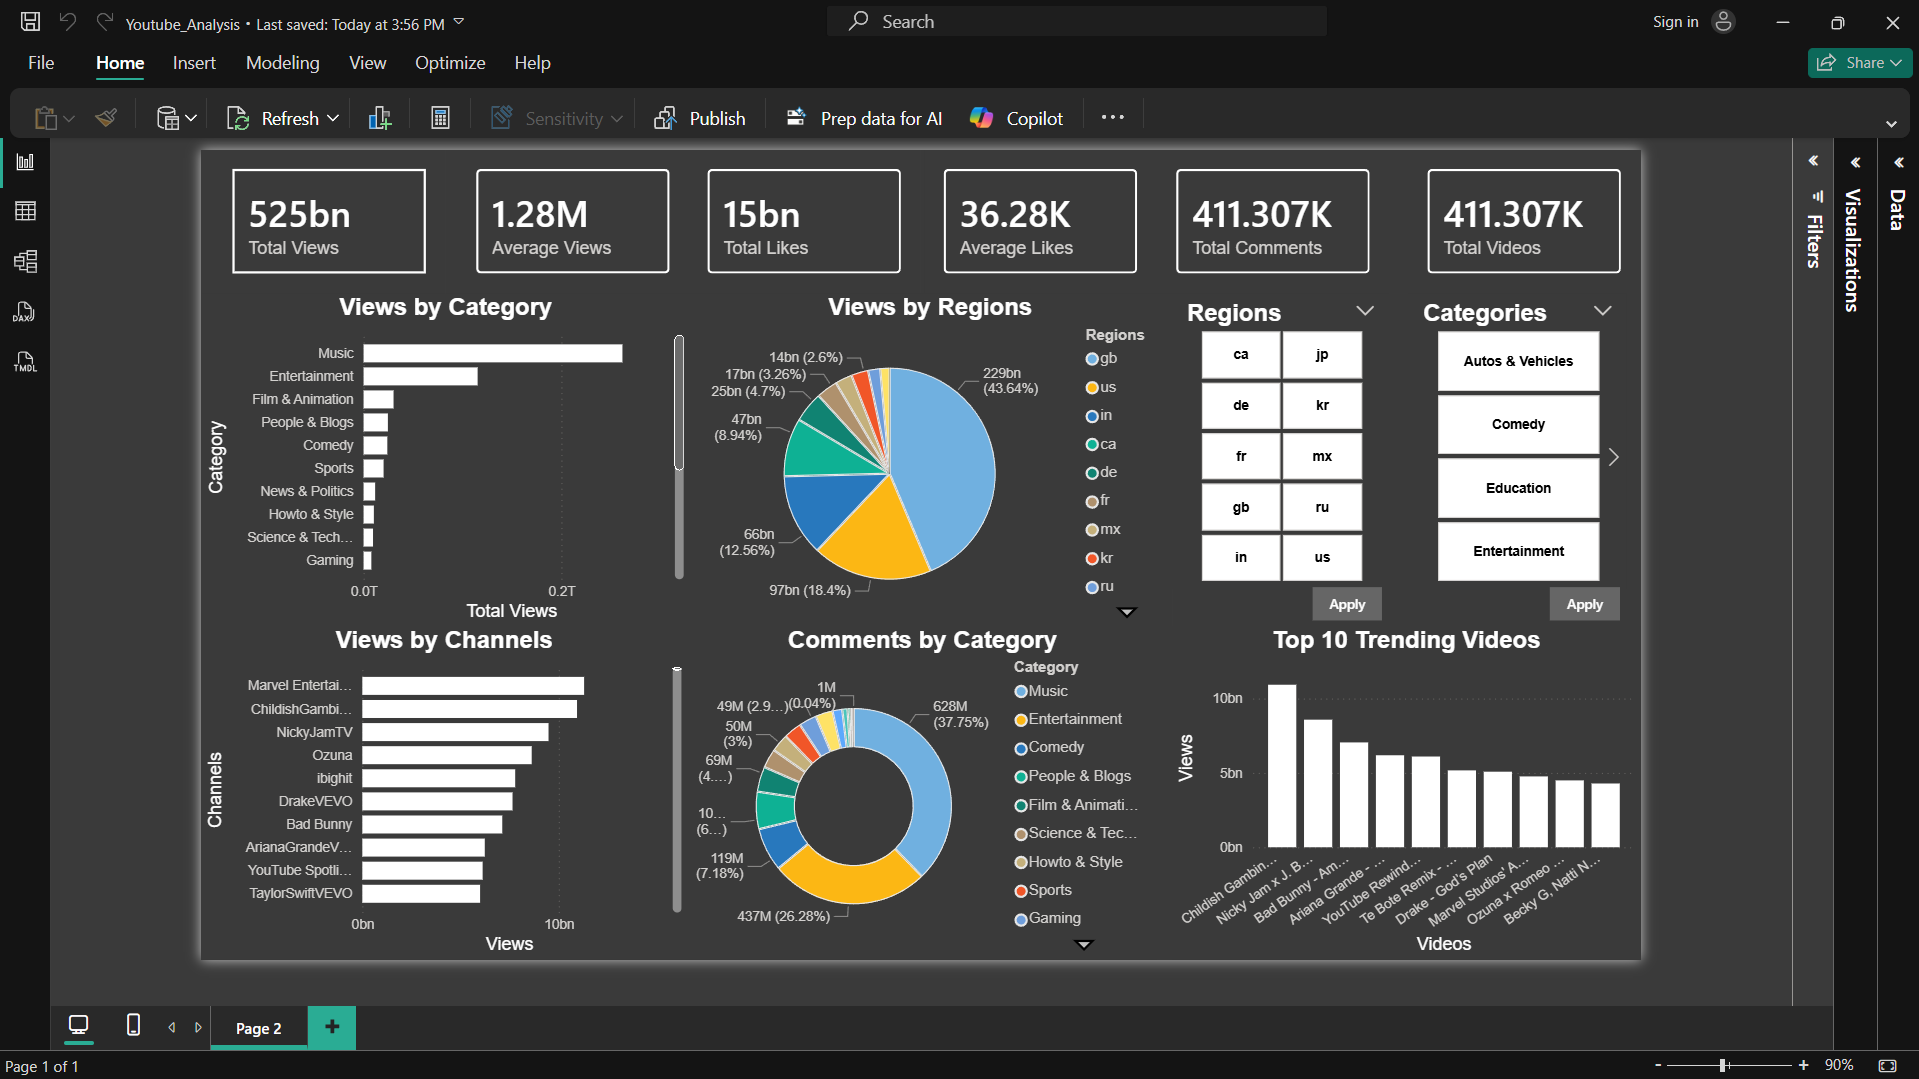

This screenshot's page, from the dashboard's own definition file:
{"tool":"powerbi","page":{"name":"Page 2","canvas":[1280,720],"ordinal":0},"visuals":[{"type":"cardVisual","fields":{"Data":["Sum(Number of views based on category.views)"]},"box":[11.1,0,206.7,127.8],"z":0},{"type":"cardVisual","fields":{"Data":["Sum(Number of views based on category.likes)"]},"box":[433.8,0,206.2,127.5],"z":1000},{"type":"cardVisual","fields":{"Data":["CountNonNull(Number of views based on category.comment_count)"]},"box":[850,0,206.2,127.5],"z":2000},{"type":"cardVisual","fields":{"Data":["CountNonNull(Number of views based on category.video_id)"]},"box":[1073.8,0,206.2,127.5],"z":3000},{"type":"clusteredBarChart","title":"Views by Category","fields":{"Category":["Number of views based on category.category_name"],"Y":["Sum(Number of views based on category.views)"]},"box":[1.1,127.8,433.3,295.6],"z":4000},{"type":"pieChart","fields":{"Category":["Number of views based on category.region"],"Y":["Sum(Number of views based on category.views)"]},"box":[433.8,127.5,430,296.2],"z":5000},{"type":"columnChart","title":"Top 10 Trending Videos","fields":{"Category":["Number of views based on category.title"],"Y":["Sum(Number of views based on category.views)"]},"box":[863.8,423.8,416.2,296.2],"z":6000},{"type":"cardVisual","fields":{"Data":["Avg(Number of views based on category.views)"]},"box":[227.5,0,206.2,127.5],"z":7000},{"type":"cardVisual","fields":{"Data":["Avg(Number of views based on category.likes)"]},"box":[643.8,0,206.2,127.5],"z":8000},{"type":"donutChart","fields":{"Y":["Sum(Number of views based on category.comment_count)"],"Category":["Number of views based on category.category_name"]},"box":[433.8,423.8,416.2,296.2],"z":9000},{"type":"slicer","fields":{"Values":["Number of views based on category.region"]},"box":[863.8,127.5,192.5,296.2],"z":10000},{"type":"slicer","fields":{"Values":["Number of views based on category.category_name"]},"box":[1073.8,127.5,193.8,296.2],"z":11000},{"type":"clusteredBarChart","fields":{"Category":["Number of views based on category.channel_title"],"Y":["Sum(Number of views based on category.views)"]},"box":[0,423.8,432.5,296.2],"z":12000}]}

Visuals, with their boxes on the page's 1280x720 design canvas (x1, y1, x2, y2). These are canvas units, not pixel positions in the 1919x1079 screenshot, which may show the page scaled, cropped or inside an application window:
cardVisual - Sum(Number of views based on category.views): [11, 0, 218, 128]
cardVisual - Sum(Number of views based on category.likes): [434, 0, 640, 128]
cardVisual - CountNonNull(Number of views based on category.comment_count): [850, 0, 1056, 128]
cardVisual - CountNonNull(Number of views based on category.video_id): [1074, 0, 1280, 128]
"Views by Category" clusteredBarChart: [1, 128, 434, 423]
pieChart - Number of views based on category.region x Sum(Number of views based on category.views): [434, 128, 864, 424]
"Top 10 Trending Videos" columnChart: [864, 424, 1280, 720]
cardVisual - Avg(Number of views based on category.views): [228, 0, 434, 128]
cardVisual - Avg(Number of views based on category.likes): [644, 0, 850, 128]
donutChart - Sum(Number of views based on category.comment_count) x Number of views based on category.category_name: [434, 424, 850, 720]
slicer - Number of views based on category.region: [864, 128, 1056, 424]
slicer - Number of views based on category.category_name: [1074, 128, 1268, 424]
clusteredBarChart - Number of views based on category.channel_title x Sum(Number of views based on category.views): [0, 424, 432, 720]
